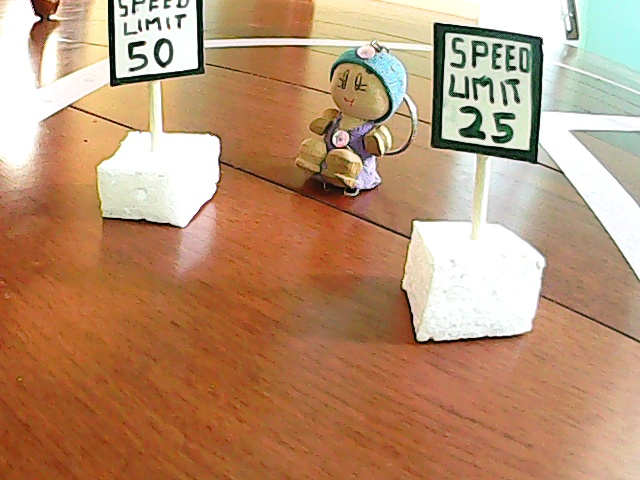pedestrain: (304, 42, 411, 190)
speed_25: (419, 17, 552, 347)
speed_50: (87, 1, 233, 218)
